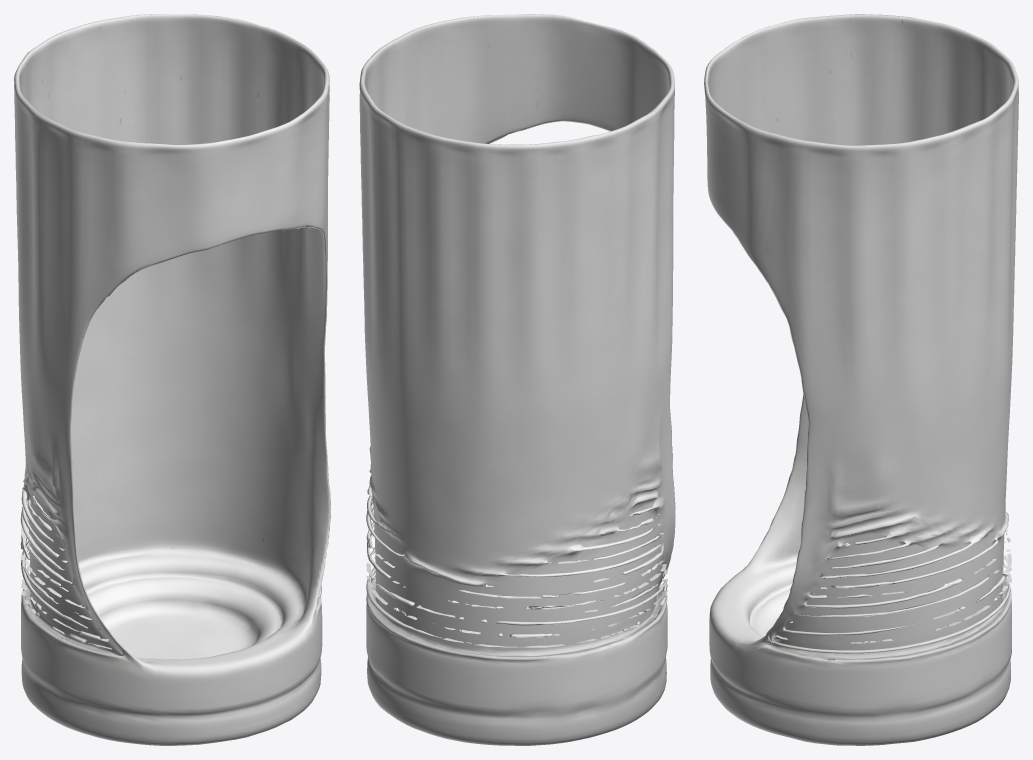
The model's file is model_highball_glass.glb.
The picture shows the model from 3 angles, left to right: view 1: azimuth 30°, elevation 25°; view 2: azimuth 150°, elevation 25°; view 3: azimuth 270°, elevation 25°; orthographic projection.
Parts seen in each view (by area): view 1: tripo_node_c70e352e-3b78-4846-9b60-9916ac15523f; view 2: tripo_node_c70e352e-3b78-4846-9b60-9916ac15523f; view 3: tripo_node_c70e352e-3b78-4846-9b60-9916ac15523f.
Part boxes in pixels (bbox=[...]): tripo_node_c70e352e-3b78-4846-9b60-9916ac15523f: bbox=[14, 14, 330, 745]; tripo_node_c70e352e-3b78-4846-9b60-9916ac15523f: bbox=[359, 14, 675, 745]; tripo_node_c70e352e-3b78-4846-9b60-9916ac15523f: bbox=[704, 14, 1018, 745].
Size of the model in its own units: 0.4722 by 0.9996 by 0.4697.
Materials: 1 (1 with a texture image).
